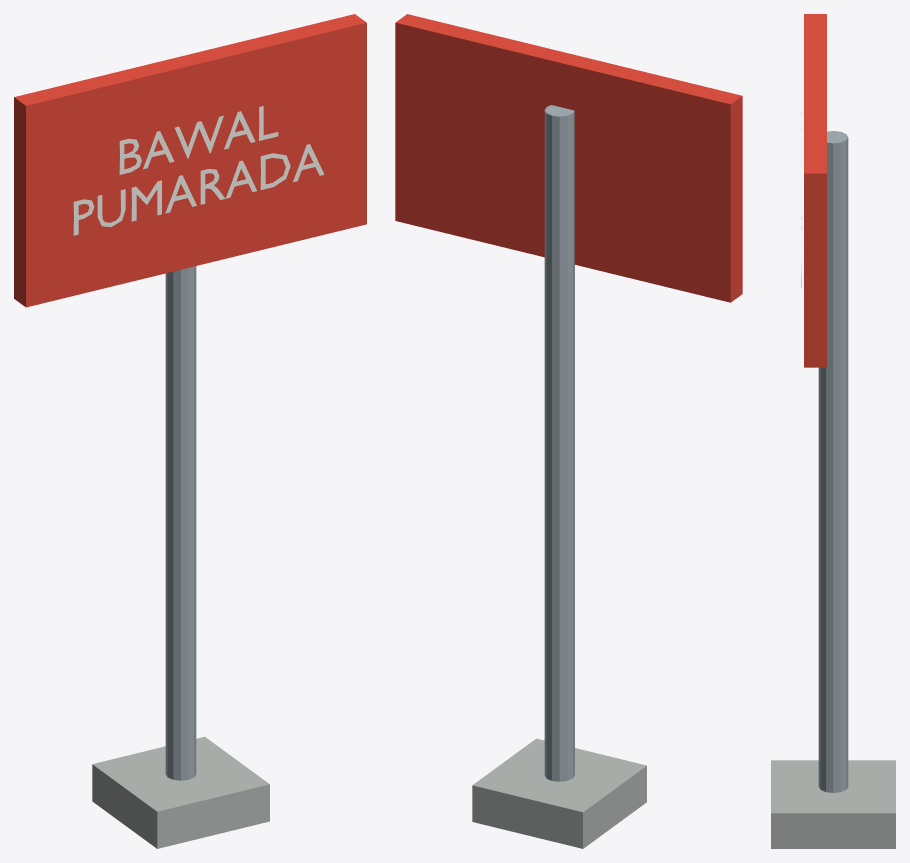
File: TR_Sign_NoParking.glb
The picture shows the model from 3 angles, left to right: view 1: azimuth 30°, elevation 25°; view 2: azimuth 150°, elevation 25°; view 3: azimuth 270°, elevation 25°; orthographic projection. The views are drawn at different scales.
Visible parts, largest first — view 1: TR_Sign_NoParking; view 2: TR_Sign_NoParking; view 3: TR_Sign_NoParking.
Boxes of the visible parts, x1=… form: TR_Sign_NoParking: x1=14, y1=14, x2=366, y2=848; TR_Sign_NoParking: x1=395, y1=14, x2=742, y2=848; TR_Sign_NoParking: x1=771, y1=14, x2=895, y2=848.
Bounding box in the file's own units: 1.15 × 2.44 × 0.38.
